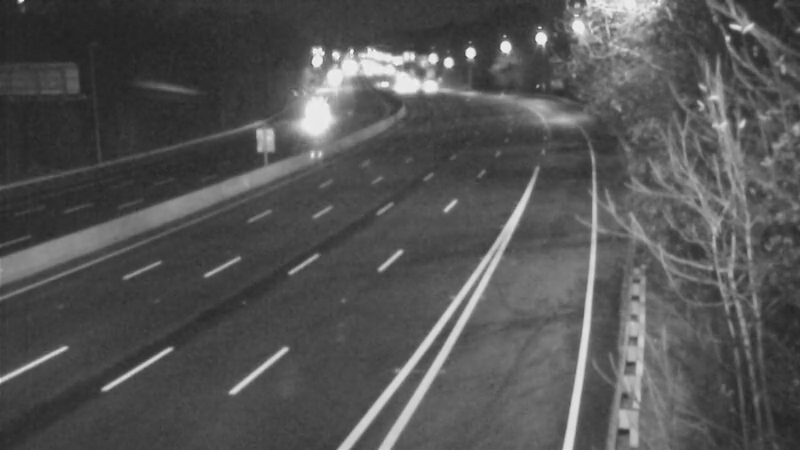vehicle: (293, 83, 343, 133)
